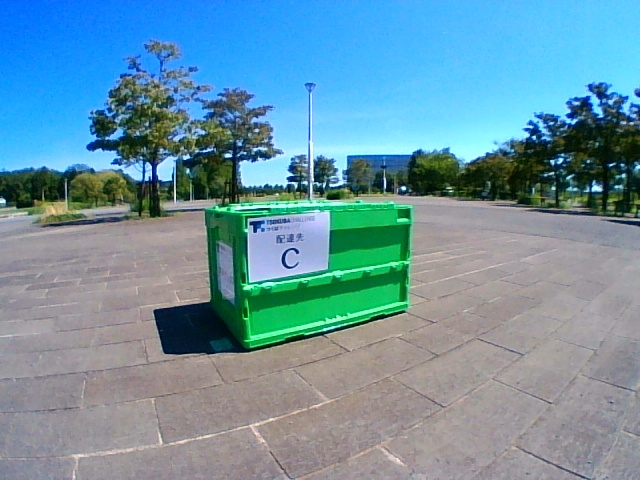green_box: (204, 201, 413, 348)
tag_c: (258, 218, 327, 271)
